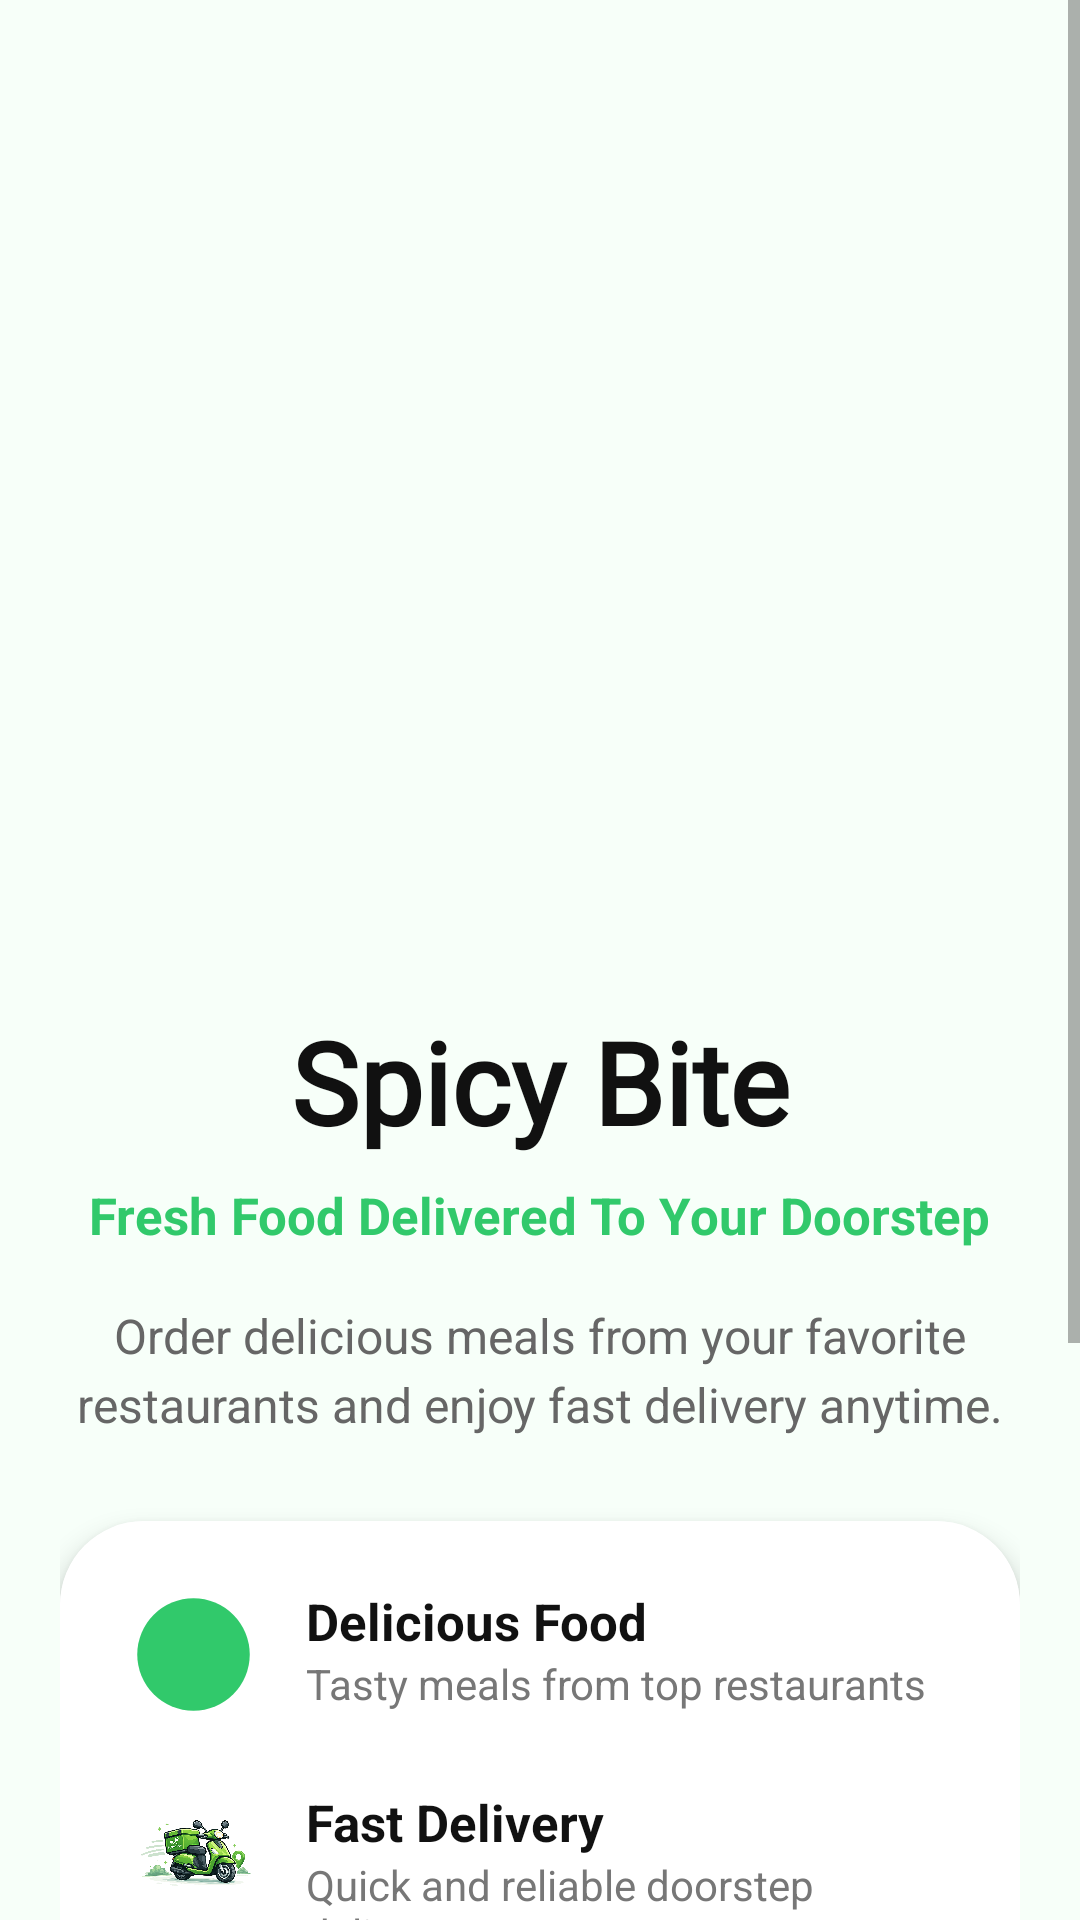

Icons on this 1080px×1920px Android screen, each with its box as bbox(x1, y1, x2, y2):
delivery bike: bbox(141, 1820, 251, 1884)
